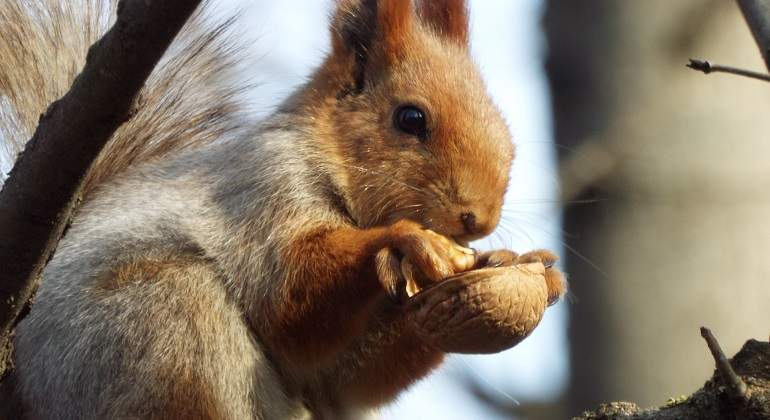Ardilla: (42, 1, 574, 418)
